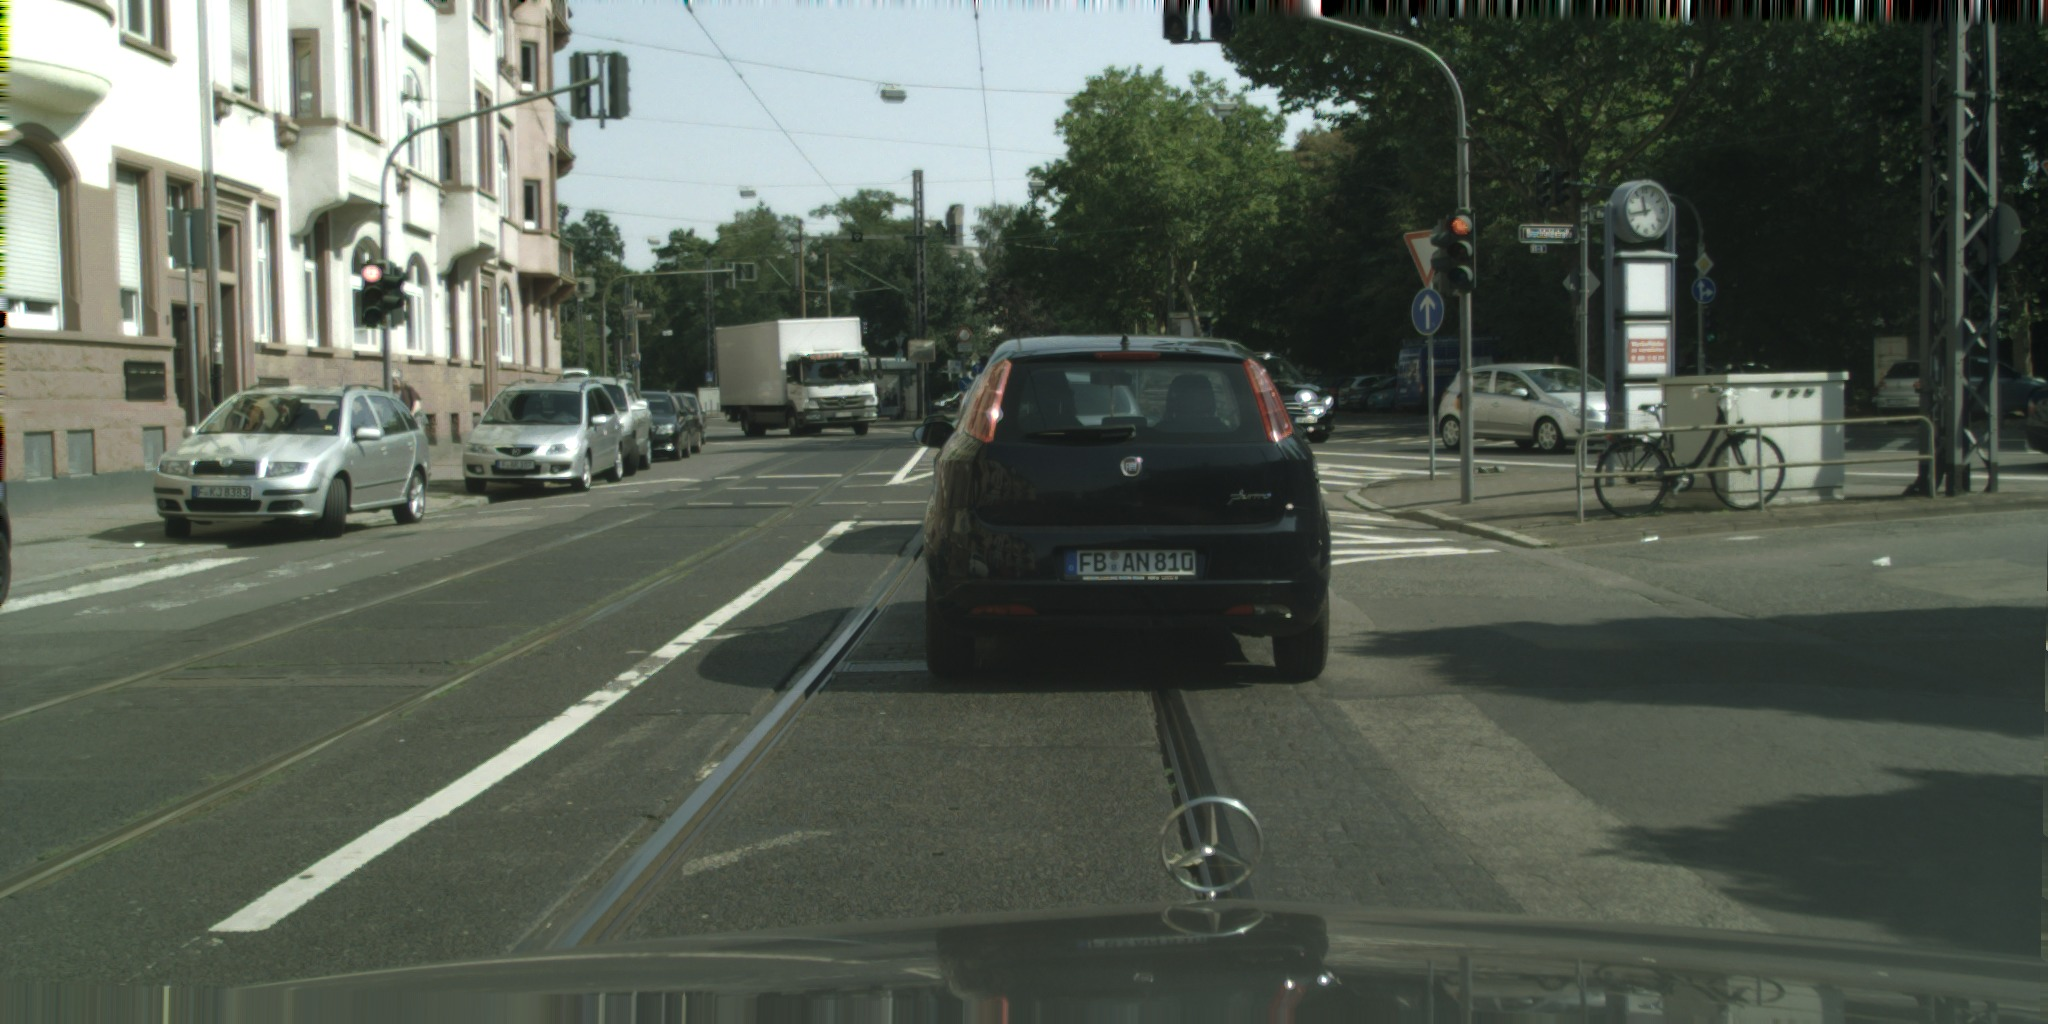bicycle: (1593, 386, 1786, 519)
car: (913, 336, 1332, 682), (154, 384, 432, 539), (462, 378, 625, 494), (1436, 363, 1620, 454), (1871, 355, 2048, 426), (562, 377, 653, 477), (1240, 354, 1336, 445), (1397, 342, 1495, 415), (630, 390, 690, 462), (661, 391, 706, 452), (1338, 374, 1394, 410), (1706, 361, 1778, 388), (1348, 377, 1401, 411), (2026, 382, 2048, 458), (558, 366, 601, 396), (1366, 387, 1405, 414), (1671, 365, 1715, 386)
person: (388, 367, 428, 432)
truck: (715, 315, 879, 438)
